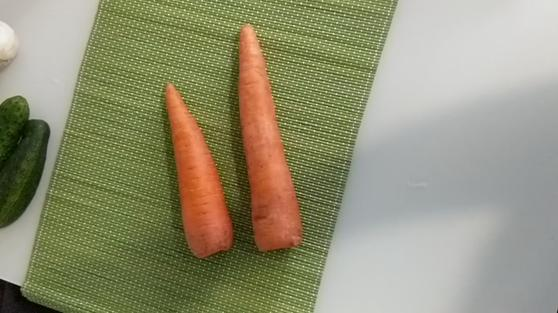carrot: (227, 22, 306, 255), (162, 80, 235, 261)
champignon: (1, 17, 24, 70)
cucumber: (2, 122, 56, 234), (2, 95, 30, 159)
